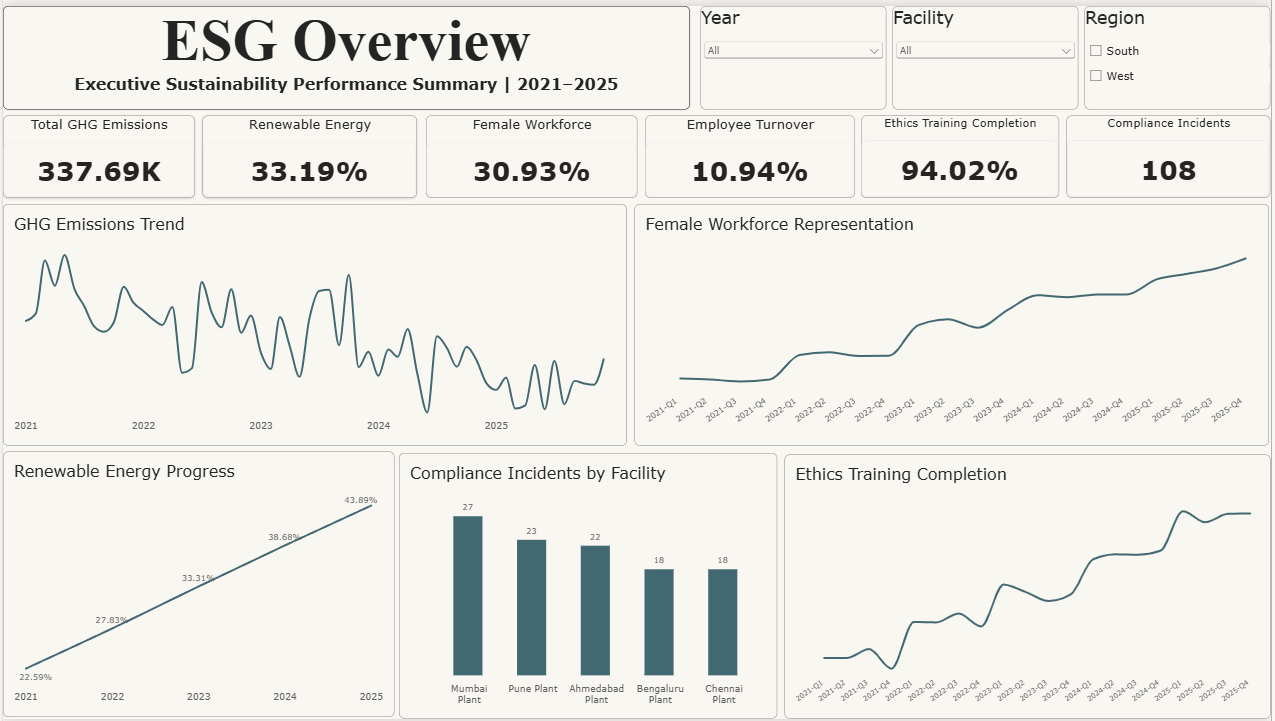

The dashboard page shown, as its layout file describes it:
{"tool":"powerbi","page":{"name":"ESG Overview","canvas":[1920,1080],"ordinal":0},"visuals":[{"type":"cardVisual","title":"Total GHG Emissions","fields":{"Data":["Measure.Total GHG Emissions"]},"box":[0,165.8,290.7,124.9],"z":0},{"type":"cardVisual","title":"Renewable Energy","fields":{"Data":["Measure.Renewable Energy %"]},"box":[302.1,165.8,324.8,124.9],"z":1},{"type":"cardVisual","title":"Female Workforce","fields":{"Data":["Measure.Female Workforce %"]},"box":[640.5,165.8,320.3,124.9],"z":2},{"type":"cardVisual","title":"Employee Turnover","fields":{"Data":["Measure.Employee Turnover %"]},"box":[972.1,165.8,318,124.9],"z":3},{"type":"cardVisual","title":"Ethics Training Completion","fields":{"Data":["Measure.Ethics Training Completion %"]},"box":[1299.2,165.8,299.8,124.9],"z":4},{"type":"cardVisual","title":"Compliance Incidents","fields":{"Data":["Measure.Compliance Incidents"]},"box":[1610.4,165.8,308.9,124.9],"z":5},{"type":"slicer","title":"Year","fields":{"Values":["DimYear.Year"]},"box":[1056.2,0,281.6,156.7],"z":6},{"type":"slicer","title":"Facility","fields":{"Values":["Facilities.Facility"]},"box":[1346.9,0,281.6,156.7],"z":7},{"type":"slicer","title":"Region","fields":{"Values":["Facilities.Region"]},"box":[1637.6,0,281.6,156.7],"z":8},{"type":"textbox","box":[0,0,1040.3,156.7],"z":9},{"type":"lineChart","title":"GHG Emissions Trend","fields":{"Category":["Calendar.Month Start"],"Y":["Measure.Total GHG Emissions"]},"box":[0,299.8,944.9,365.7],"z":10},{"type":"lineChart","title":"Renewable Energy Progress","fields":{"Category":["Calendar.Year"],"Y":["Measure.Renewable Energy %"]},"box":[0,674.6,592.8,402],"z":11},{"type":"lineChart","title":"Female Workforce Representation","fields":{"Category":["Quarter.YearQuarter"],"Y":["Measure.Female Workforce %"]},"box":[956.2,299.8,960.8,365.7],"z":12},{"type":"clusteredColumnChart","title":"Compliance Incidents by Facility","fields":{"Category":["Facilities.Facility"],"Y":["Measure.Compliance Incidents"]},"box":[599.6,676.8,572.4,402],"z":13},{"type":"lineChart","title":"Ethics Training Completion","fields":{"Category":["Quarter.YearQuarter"],"Y":["Measure.Ethics Training Completion %"]},"box":[1183.4,679.1,735.9,399.8],"z":14}]}

Visuals, with their boxes in screenshot pixels (x1, y1, x2, y2), scaled from the page's 1920x1080 canvas onto the 1275x721 screenshot:
"Total GHG Emissions" cardVisual: detection(0, 111, 193, 194)
"Renewable Energy" cardVisual: detection(201, 111, 416, 194)
"Female Workforce" cardVisual: detection(425, 111, 638, 194)
"Employee Turnover" cardVisual: detection(646, 111, 857, 194)
"Ethics Training Completion" cardVisual: detection(863, 111, 1062, 194)
"Compliance Incidents" cardVisual: detection(1069, 111, 1274, 194)
"Year" slicer: detection(701, 0, 888, 105)
"Facility" slicer: detection(894, 0, 1081, 105)
"Region" slicer: detection(1087, 0, 1274, 105)
textbox: detection(0, 0, 691, 105)
"GHG Emissions Trend" lineChart: detection(0, 200, 627, 444)
"Renewable Energy Progress" lineChart: detection(0, 450, 394, 719)
"Female Workforce Representation" lineChart: detection(635, 200, 1273, 444)
"Compliance Incidents by Facility" clusteredColumnChart: detection(398, 452, 778, 720)
"Ethics Training Completion" lineChart: detection(786, 453, 1274, 720)
